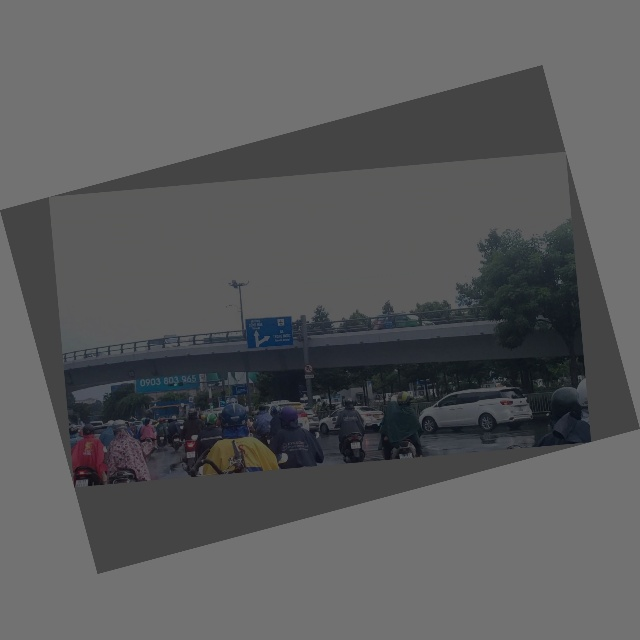P.124b1: (302, 362, 315, 376)
